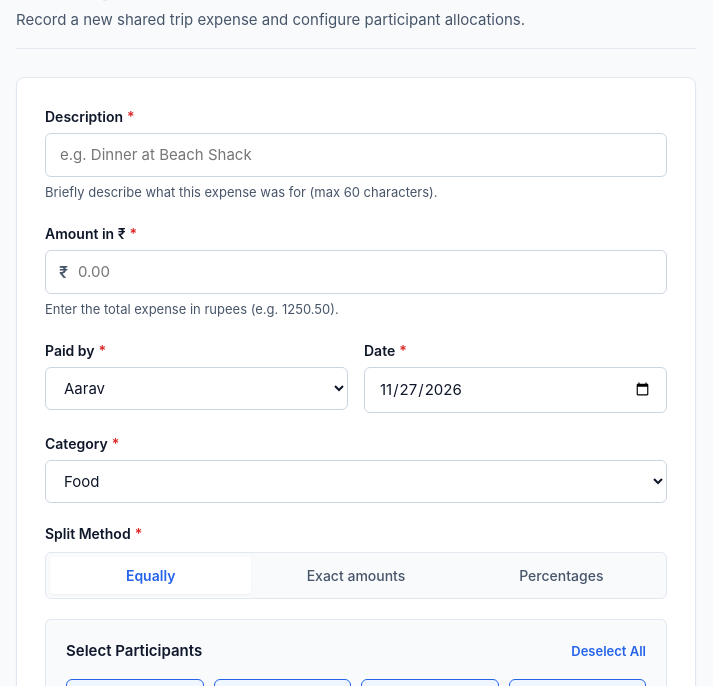
Scenario: AddExpensePage Integration › rejects future date with error message
This screenshot has width=713, height=686.
Type "2099-12-31" into the date field labelled "Date *".
click(516, 390); type("2099-12-31")  # box 364,366 -> 667,413
(page scrolled)
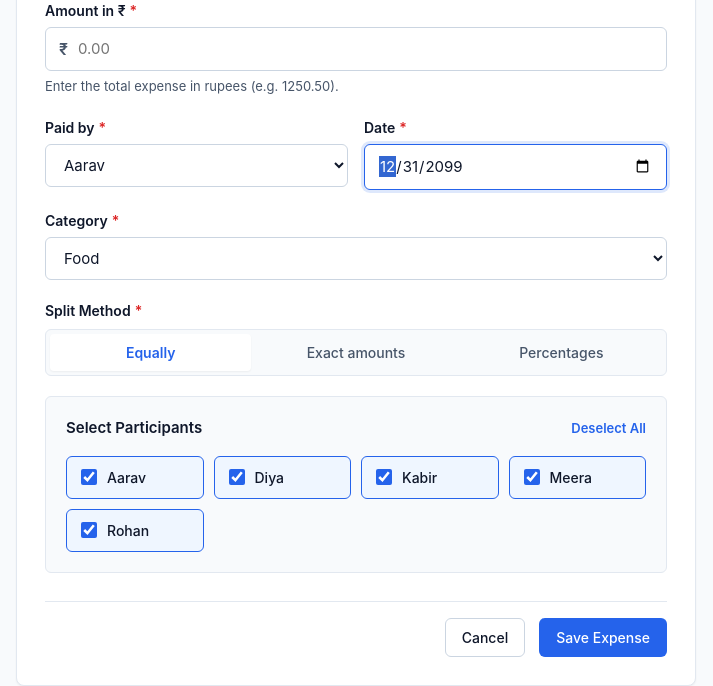
Click the button "Save Expense".
click(603, 637)  # box 539,618 -> 667,656
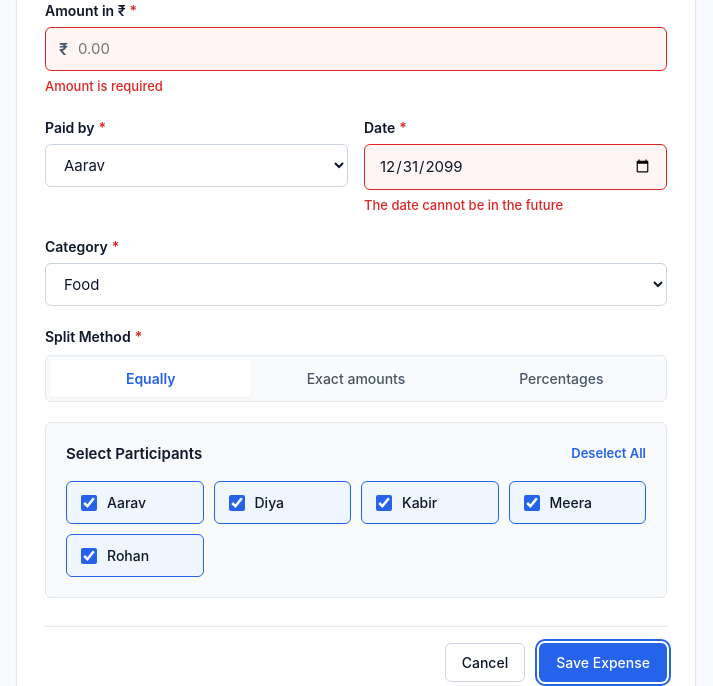
Expected: the text "The date cannot be in the future" is shown, 364,197 -> 563,213
